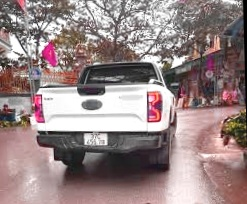Bien-so: (93, 130, 118, 144)
